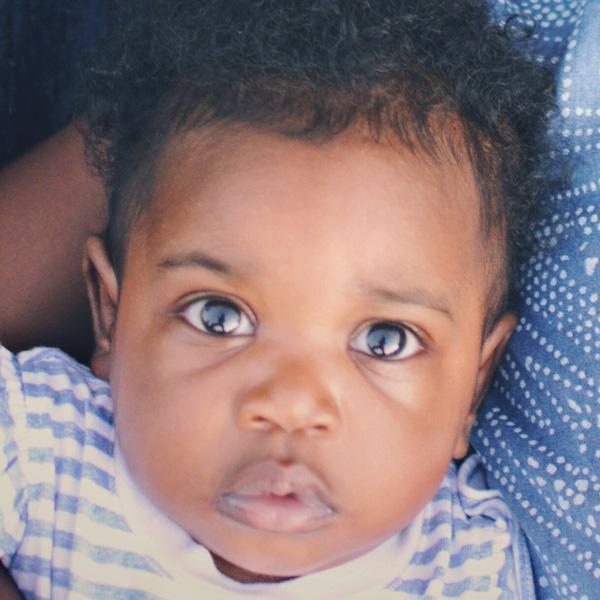Eyes: (164, 282, 265, 355), (339, 309, 436, 375)
